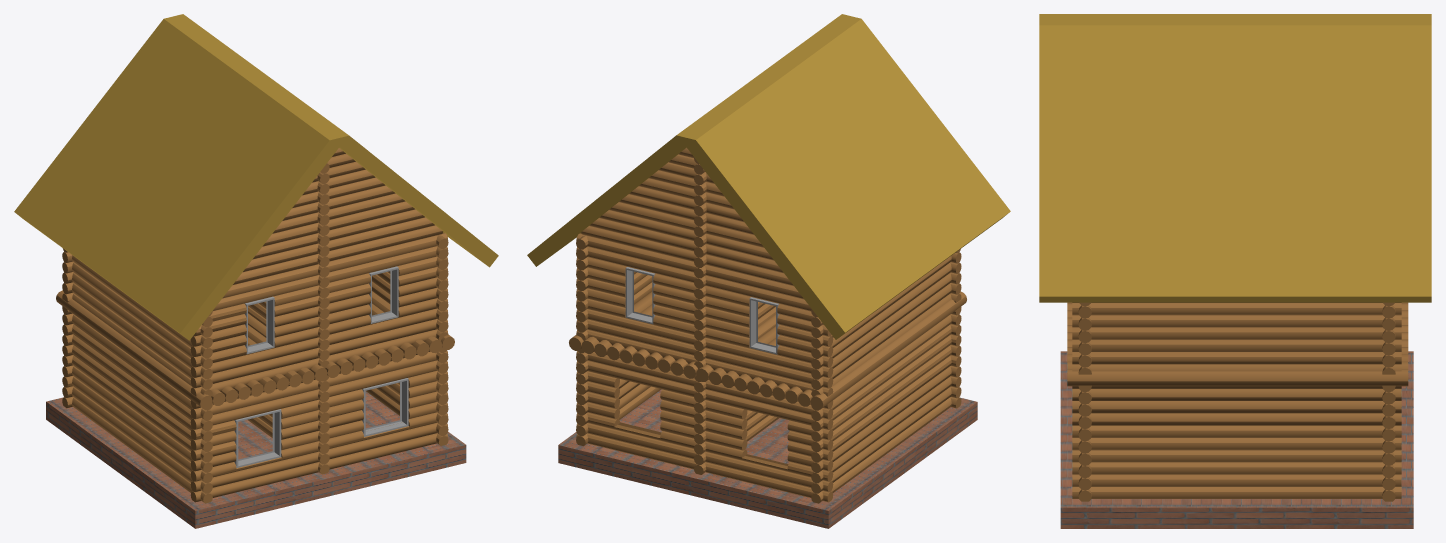
Rendered from house.fbx.
3 views of the same model, side by side, from view 1: azimuth 30°, elevation 25°; view 2: azimuth 150°, elevation 25°; view 3: azimuth 270°, elevation 25° (orthographic). The views are drawn at different scales.
Parts seen in each view (by area): view 1: Plane.001, Circle.003, Circle, Cube.003, Circle.004, Circle.002, Circle.001, Cube.002, Cube.001; view 2: Plane.001, Circle.003, Circle, Cube.003, Circle.004, Circle.002, Circle.001, Cube.001; view 3: Plane.001, Circle, Cube.003, Circle.002, Circle.003.
Boxes of the visible parts, x1,y1,x2,y2 form: Plane.001: [14, 14, 498, 340]; Circle.003: [62, 233, 448, 502]; Circle: [64, 235, 448, 503]; Cube.003: [46, 391, 466, 528]; Circle.004: [233, 148, 443, 284]; Circle.002: [56, 290, 454, 409]; Circle.001: [247, 163, 329, 474]; Cube.002: [234, 378, 408, 467]; Cube.001: [244, 266, 398, 354]; Plane.001: [527, 14, 1010, 339]; Circle.003: [576, 233, 961, 502]; Circle: [576, 235, 959, 503]; Cube.003: [558, 389, 977, 528]; Circle.004: [581, 147, 793, 286]; Circle.002: [569, 291, 966, 409]; Circle.001: [694, 157, 778, 474]; Cube.001: [625, 267, 779, 354]; Plane.001: [1039, 14, 1431, 302]; Circle: [1072, 302, 1401, 498]; Cube.003: [1060, 351, 1413, 528]; Circle.002: [1067, 302, 1408, 386]; Circle.003: [1078, 302, 1395, 501].
Size of the model in its own units: 3694 by 4039 by 3334.
Materials: 4 (1 with a texture image).
